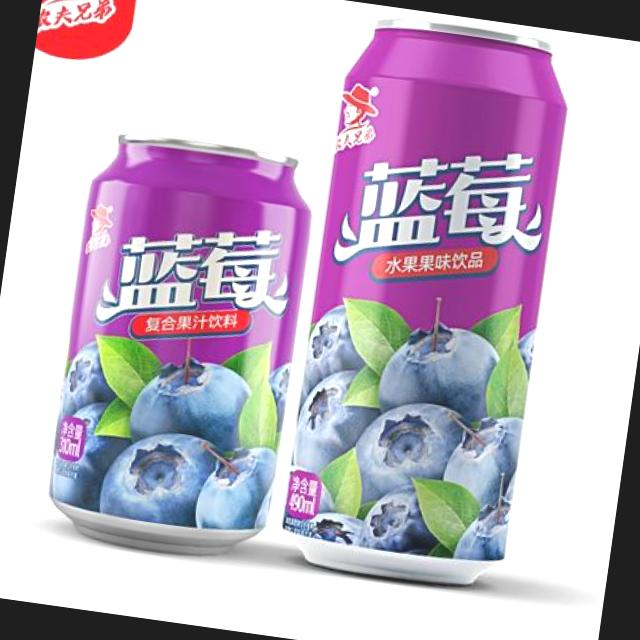can: (268, 6, 584, 597), (31, 118, 328, 569)
